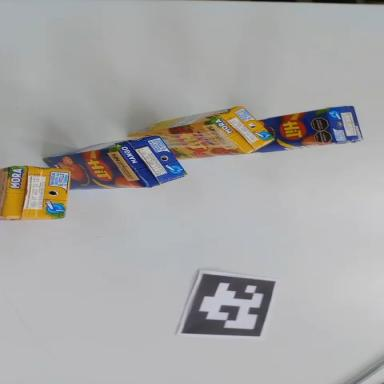HIT-MANGO: (43, 135, 187, 190), (255, 104, 362, 154)
HIT-MORA: (128, 103, 274, 165), (0, 166, 70, 220)
cara_F: (126, 118, 247, 165), (42, 147, 149, 191), (250, 108, 336, 151), (0, 167, 9, 217)
